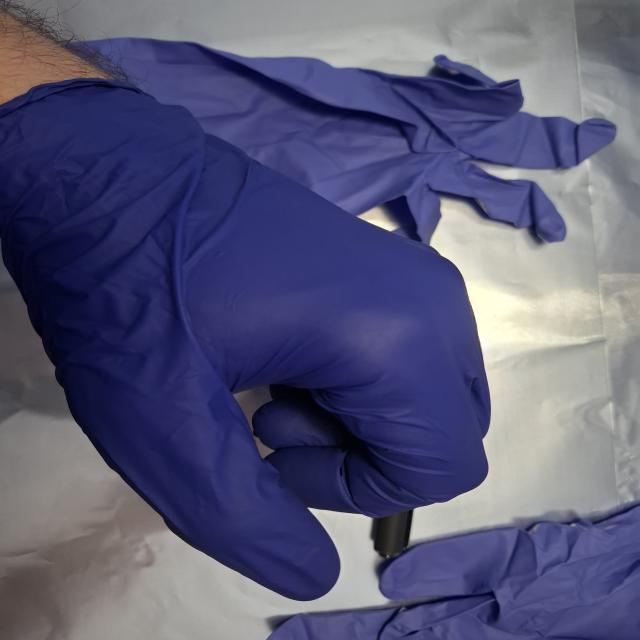glove_on: (0, 65, 500, 602)
